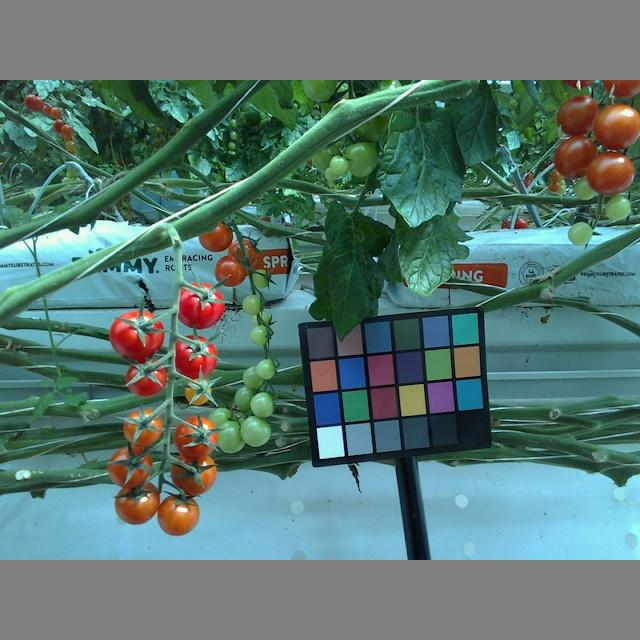green: (341, 140, 376, 177), (241, 415, 273, 447), (217, 419, 245, 454), (250, 388, 276, 417), (566, 219, 592, 246), (606, 195, 632, 221), (572, 176, 597, 202), (242, 364, 265, 388), (235, 385, 254, 412), (249, 323, 270, 346), (255, 355, 274, 379), (252, 269, 273, 289), (330, 154, 349, 173), (244, 295, 263, 313)
pink: (168, 451, 218, 496), (590, 106, 640, 150), (585, 152, 639, 192), (550, 137, 599, 180), (173, 414, 219, 459), (108, 444, 153, 488), (556, 94, 600, 137), (114, 481, 159, 523), (159, 492, 200, 537), (123, 408, 163, 448), (197, 220, 231, 250), (228, 237, 259, 268), (214, 256, 246, 286), (184, 378, 212, 406)
red: (109, 309, 165, 362), (173, 281, 225, 330), (168, 337, 218, 379), (127, 357, 167, 396)
